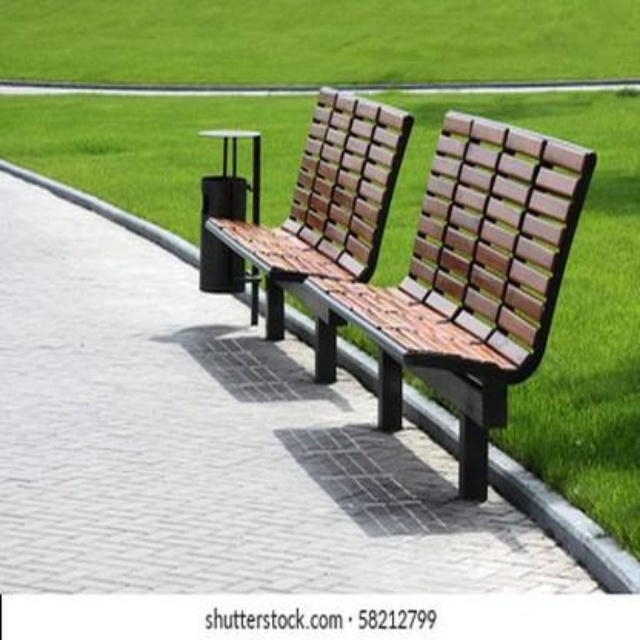obstacle: (292, 78, 606, 515)
